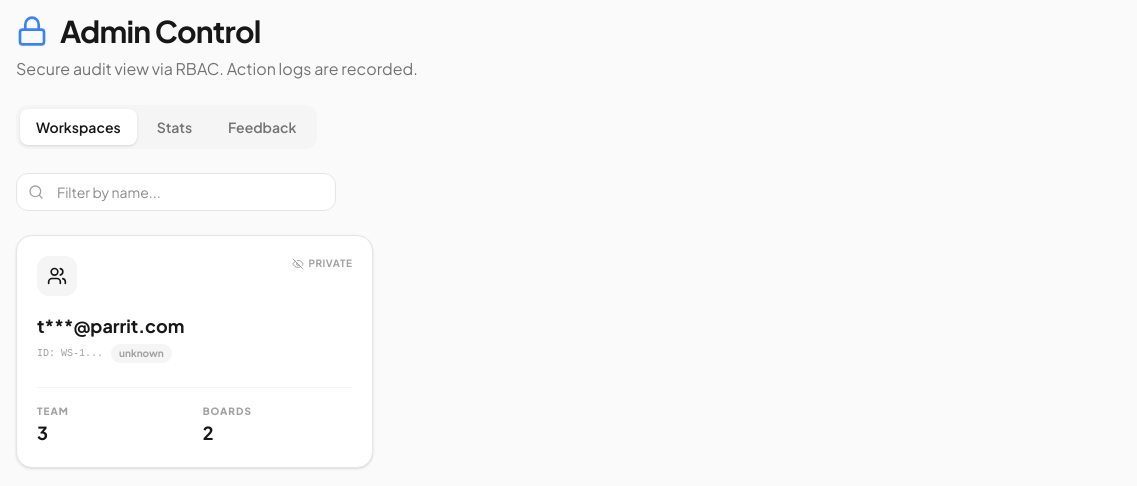
Test: AdminPortal › switches to the feedback tab and loads submissions
This screenshot has width=1137, height=486.
Expected: the heading "t***@parrit.com" is shown, top-left (37, 314), bottom-right (184, 337)
Click the button "feedback": point(262, 127) top-left (212, 109), bottom-right (312, 145)
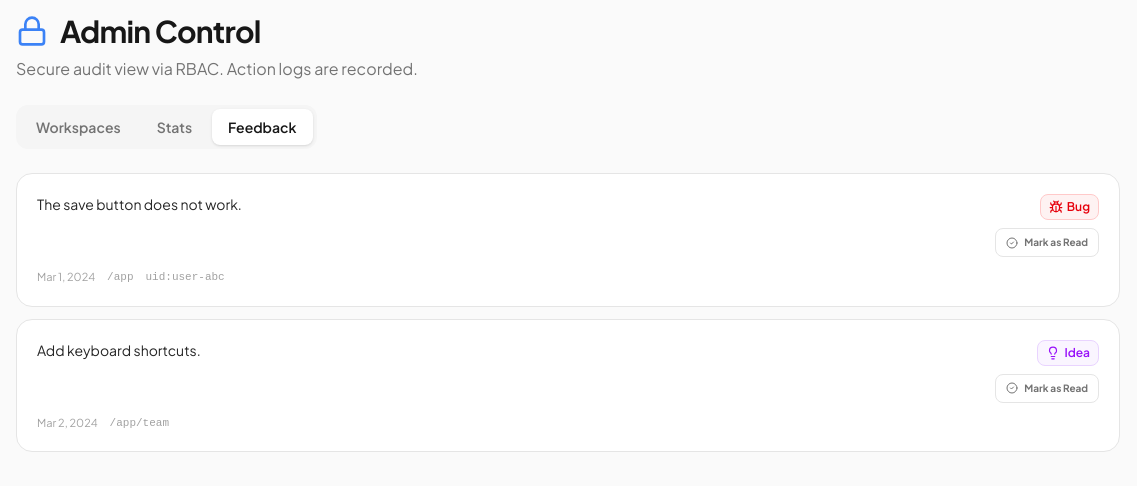
Result: the text "The save button does not work." is shown at top-left (37, 195), bottom-right (242, 213)
Result: the text "Add keyboard shortcuts." is shown at top-left (37, 340), bottom-right (201, 358)
